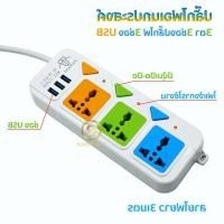three_eye_plug: (25, 45, 210, 195)
